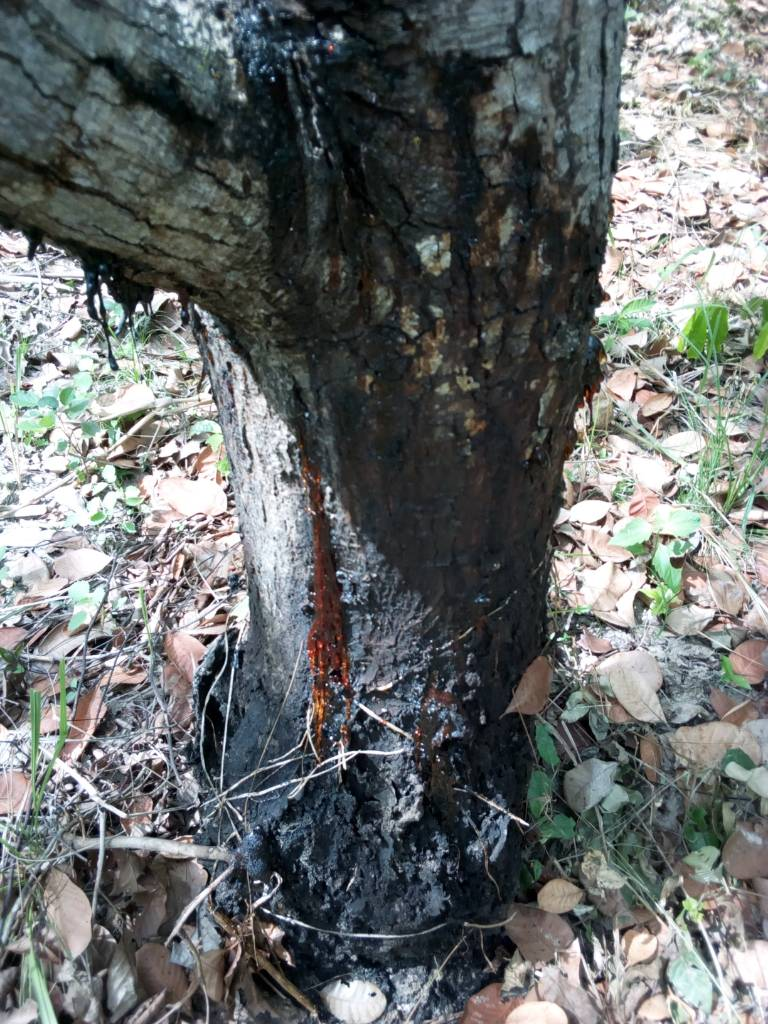Gommose: (229, 24, 597, 371), (286, 430, 532, 949)
